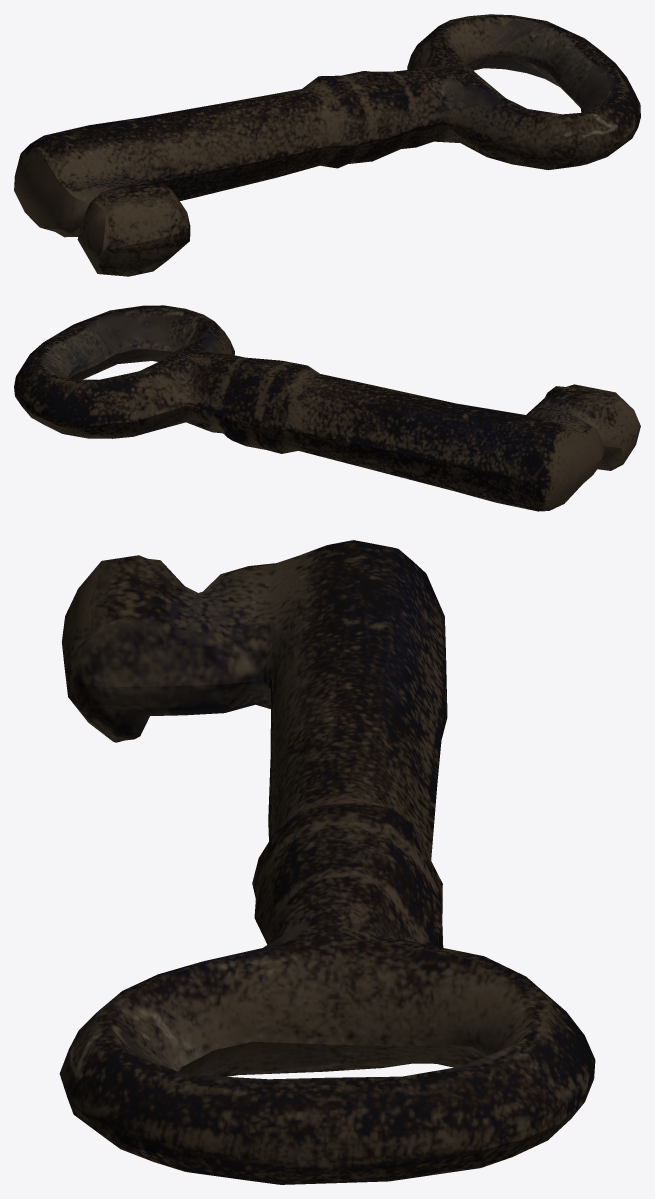
File: doorKey.glb
3 views of the same model, one above another, from view 1: azimuth 30°, elevation 25°; view 2: azimuth 150°, elevation 25°; view 3: azimuth 270°, elevation 25° (orthographic). The views are drawn at different scales.
Visible parts, largest first — view 1: Key_01_6AE97BB6_Mid_0; view 2: Key_01_6AE97BB6_Mid_0; view 3: Key_01_6AE97BB6_Mid_0.
Boxes of the visible parts, x1=… form: Key_01_6AE97BB6_Mid_0: x1=14, y1=14, x2=640, y2=276; Key_01_6AE97BB6_Mid_0: x1=14, y1=305, x2=640, y2=511; Key_01_6AE97BB6_Mid_0: x1=59, y1=540, x2=595, y2=1184.
Size of the model in its own units: 0.0791 by 0.0119 by 0.0341.
1 material, 1 textured.
